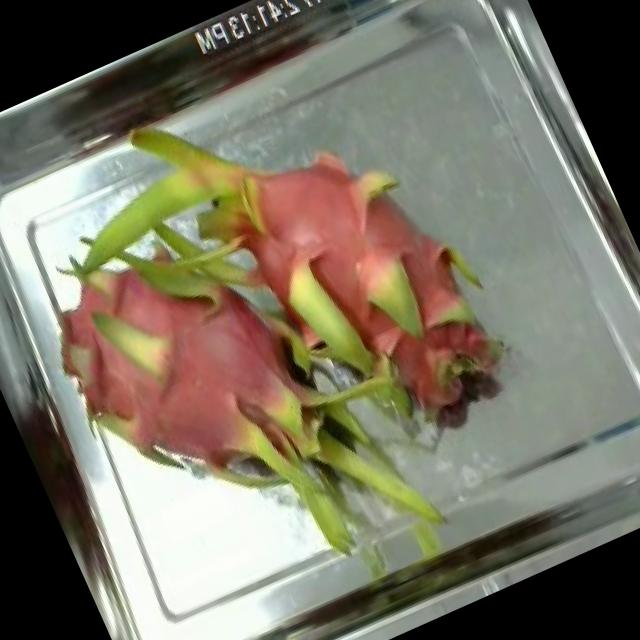Fruit: (359, 278, 542, 462)
